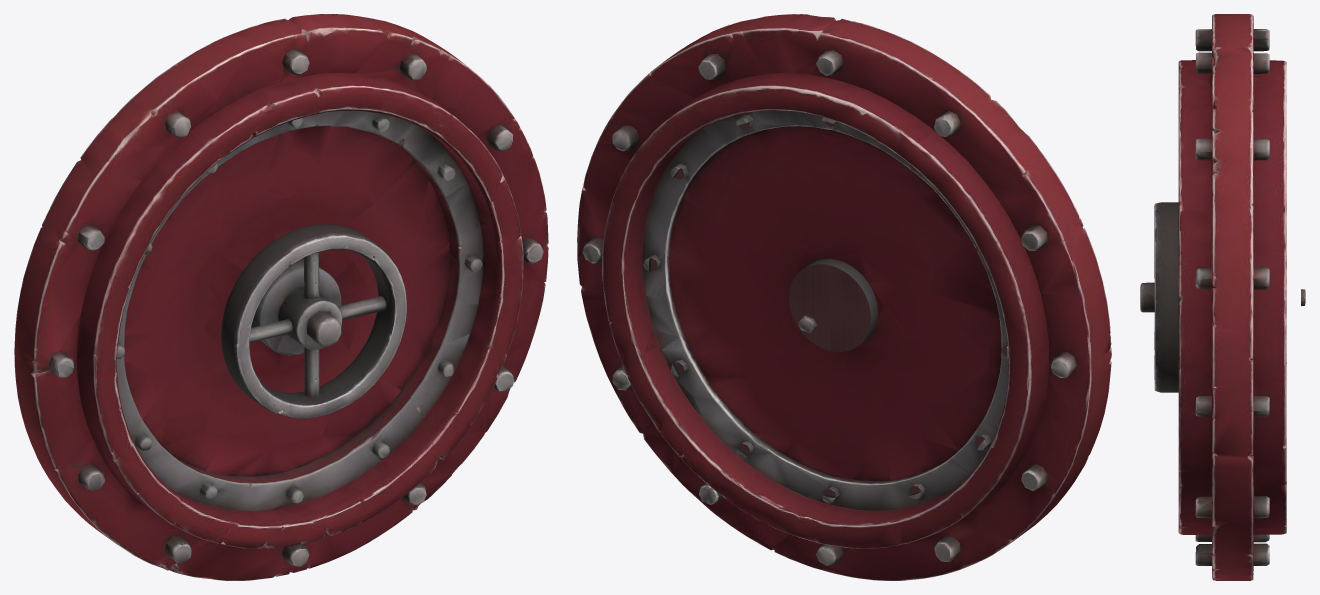
File: decor_vault_door_round.glb
The picture shows the model from 3 angles, left to right: view 1: azimuth 30°, elevation 25°; view 2: azimuth 150°, elevation 25°; view 3: azimuth 270°, elevation 25°; orthographic projection. The views are drawn at different scales.
Visible parts, largest first — view 1: door, body; view 2: body, door; view 3: body, door.
Boxes of the visible parts, x1,y1,x2,y2 form: door: (103,96,516,540); body: (14,14,548,580); body: (577,14,1111,580); door: (639,110,1008,513); body: (1178,14,1305,580); door: (1140,185,1178,476).
Size of the model in its own units: 1.5 by 1.5 by 0.4357.
3 materials, 3 textured.
